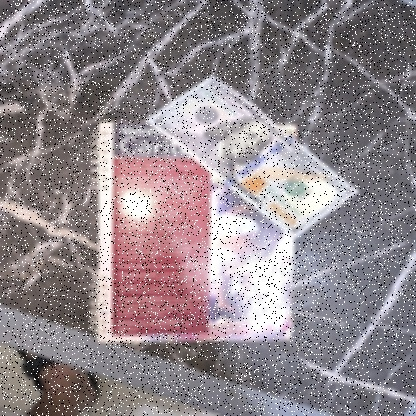one_hundred-front: (146, 78, 361, 239)
